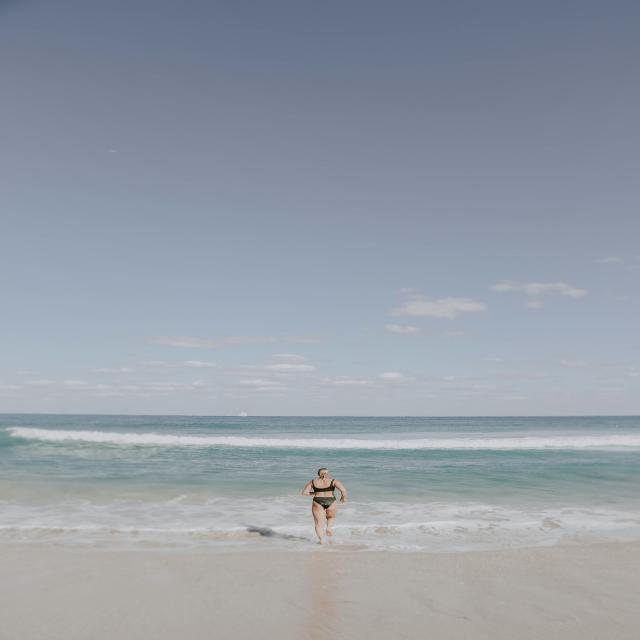running: (301, 464, 353, 544)
